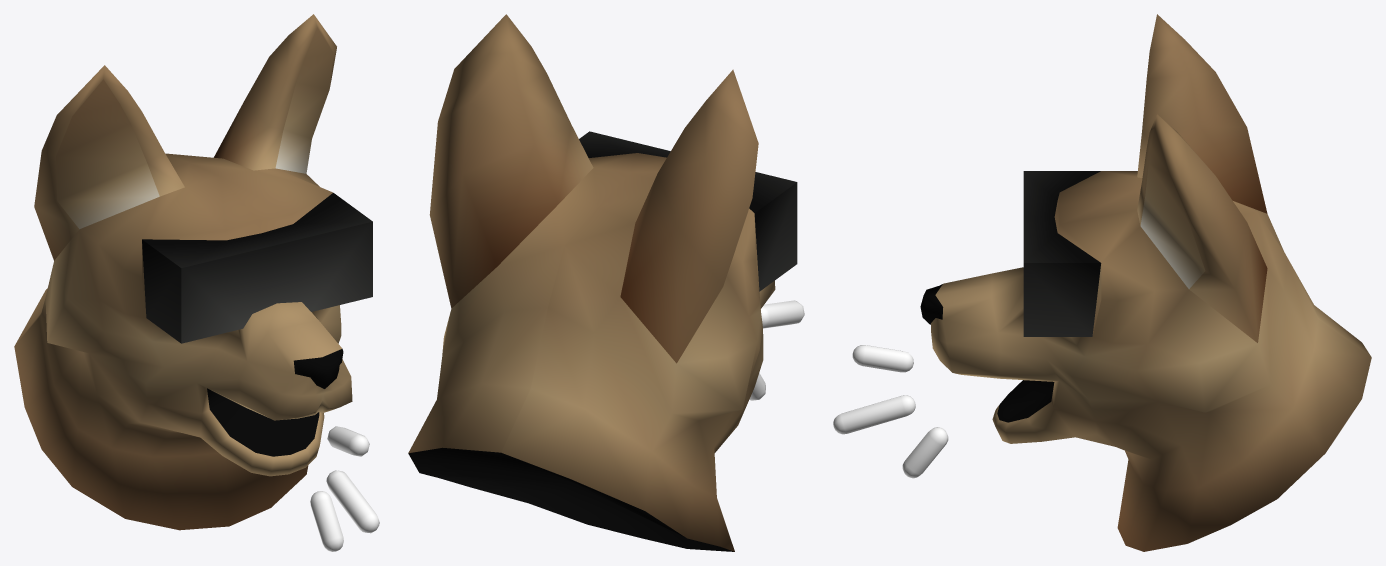
Rendered from corg.glb.
The picture shows the model from 3 angles, left to right: view 1: azimuth 30°, elevation 25°; view 2: azimuth 150°, elevation 25°; view 3: azimuth 270°, elevation 25°; orthographic projection. The views are drawn at different scales.
Visible parts, largest first — view 1: bark, bark.001, bark.003, bark.002; view 2: bark, bark.001; view 3: bark, bark.001, bark.002, bark.003.
Boxes of the visible parts, x1=… form: bark: x1=14, y1=14, x2=372, y2=530; bark.001: x1=326, y1=470, x2=379, y2=533; bark.003: x1=310, y1=491, x2=343, y2=551; bark.002: x1=327, y1=426, x2=369, y2=456; bark: x1=408, y1=14, x2=797, y2=551; bark.001: x1=761, y1=300, x2=804, y2=328; bark: x1=920, y1=14, x2=1371, y2=551; bark.001: x1=833, y1=395, x2=915, y2=434; bark.002: x1=852, y1=345, x2=913, y2=372; bark.003: x1=902, y1=427, x2=948, y2=478.
Size of the model in its own units: 0.7569 by 1.18 by 1.24.
2 materials, 1 textured.
